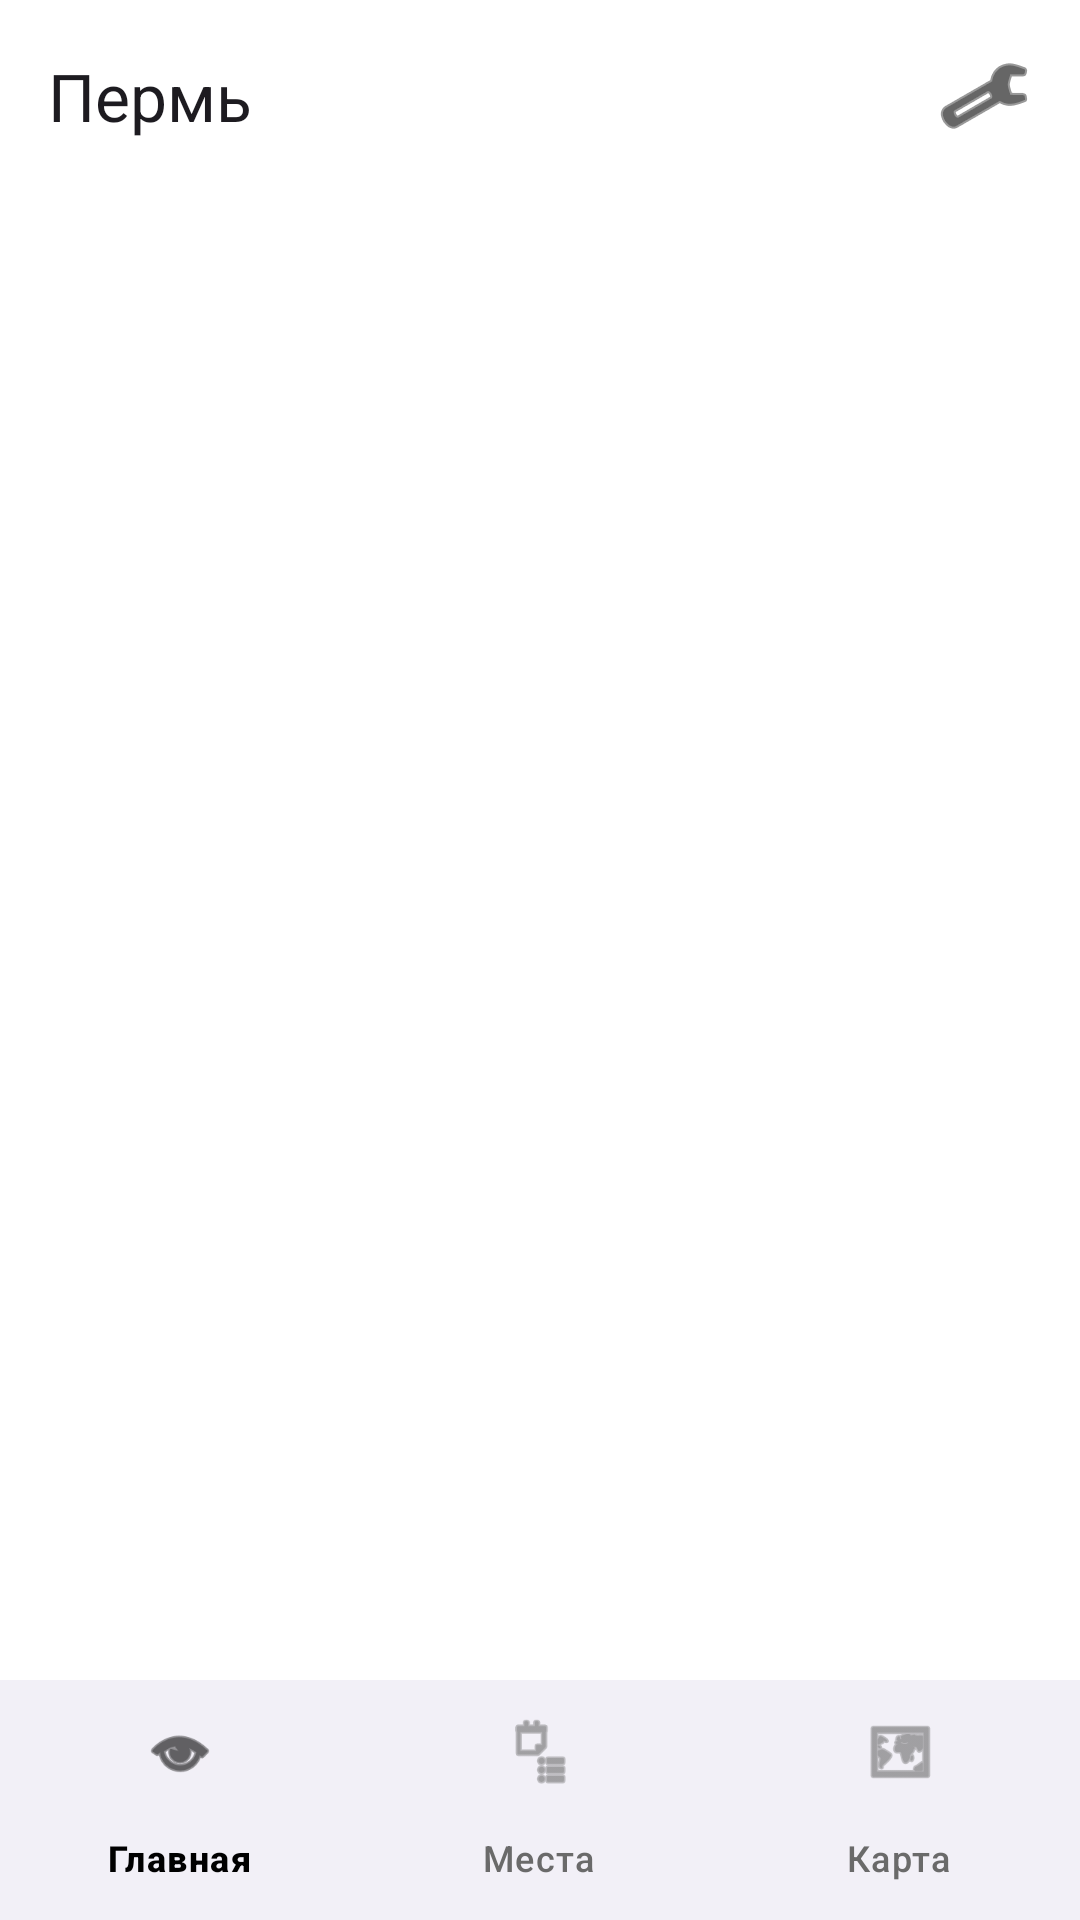

Named icons in this screenshot (1080 × 1920) and their bounding boxes, (x1, y1, x2, y2):
preferences: (941, 63, 1027, 129)
